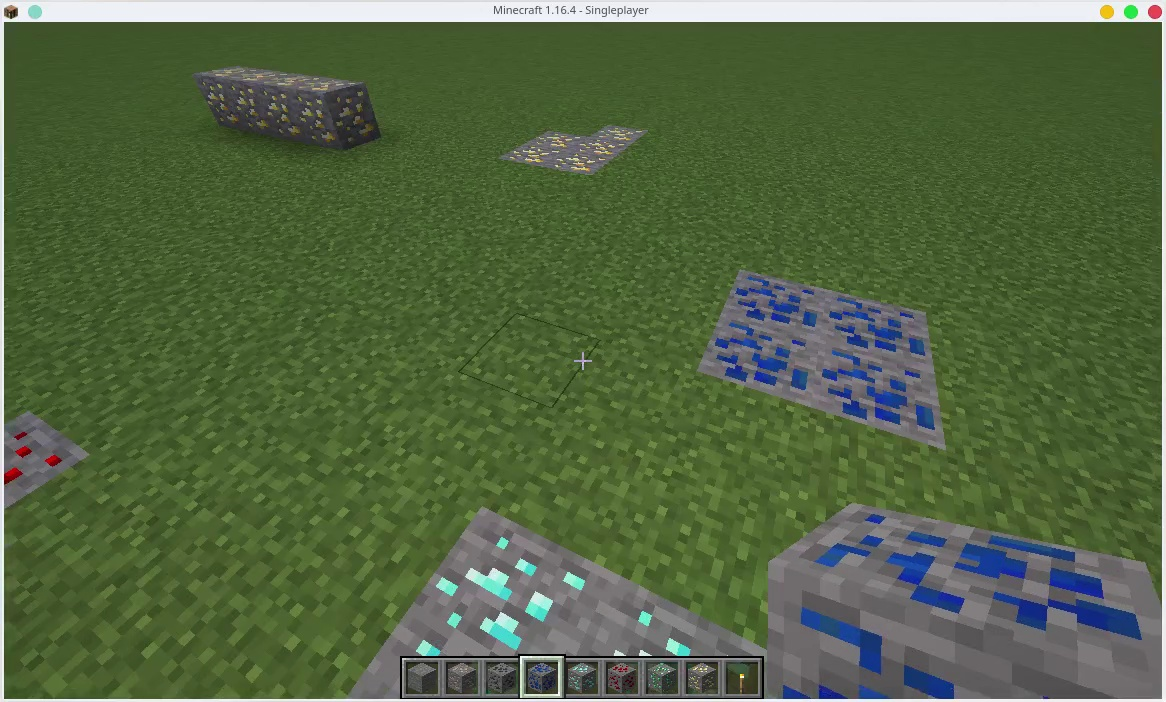gold: (300, 75, 373, 153), (263, 69, 300, 143), (198, 61, 237, 126), (236, 69, 261, 133), (504, 142, 555, 167), (687, 661, 720, 695), (556, 154, 597, 176), (583, 140, 615, 162), (606, 123, 639, 144), (531, 129, 568, 146)
